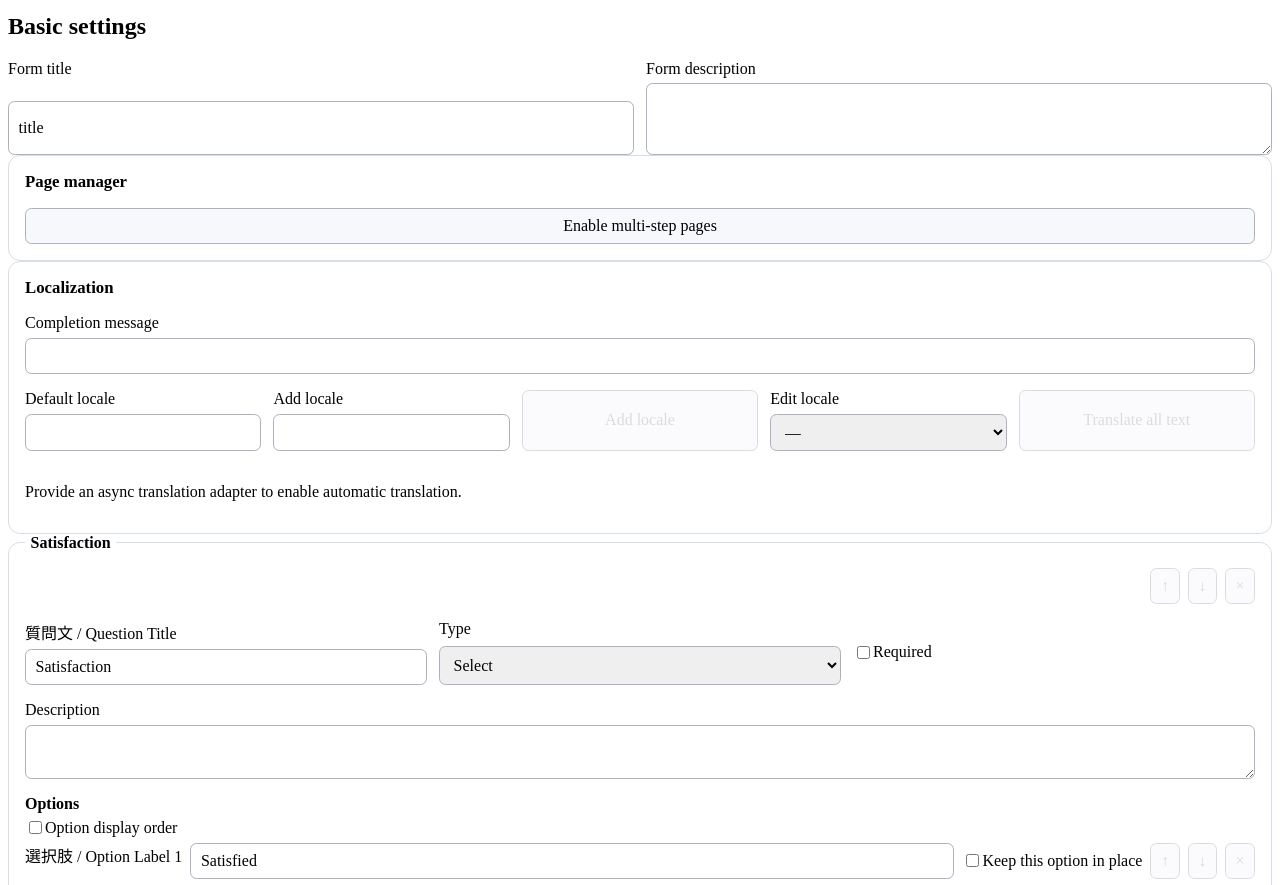
Test: React form engine › hides generated IDs and keeps them stable while natural-language labels change
The image size is (1280, 885).
Expected: the text "q_aaaaaaaa" is not shown
Replace the text in the field labelled "質問文 / Question Title" with "Overall satisfaction" at (226, 667), box [25,649,427,685]
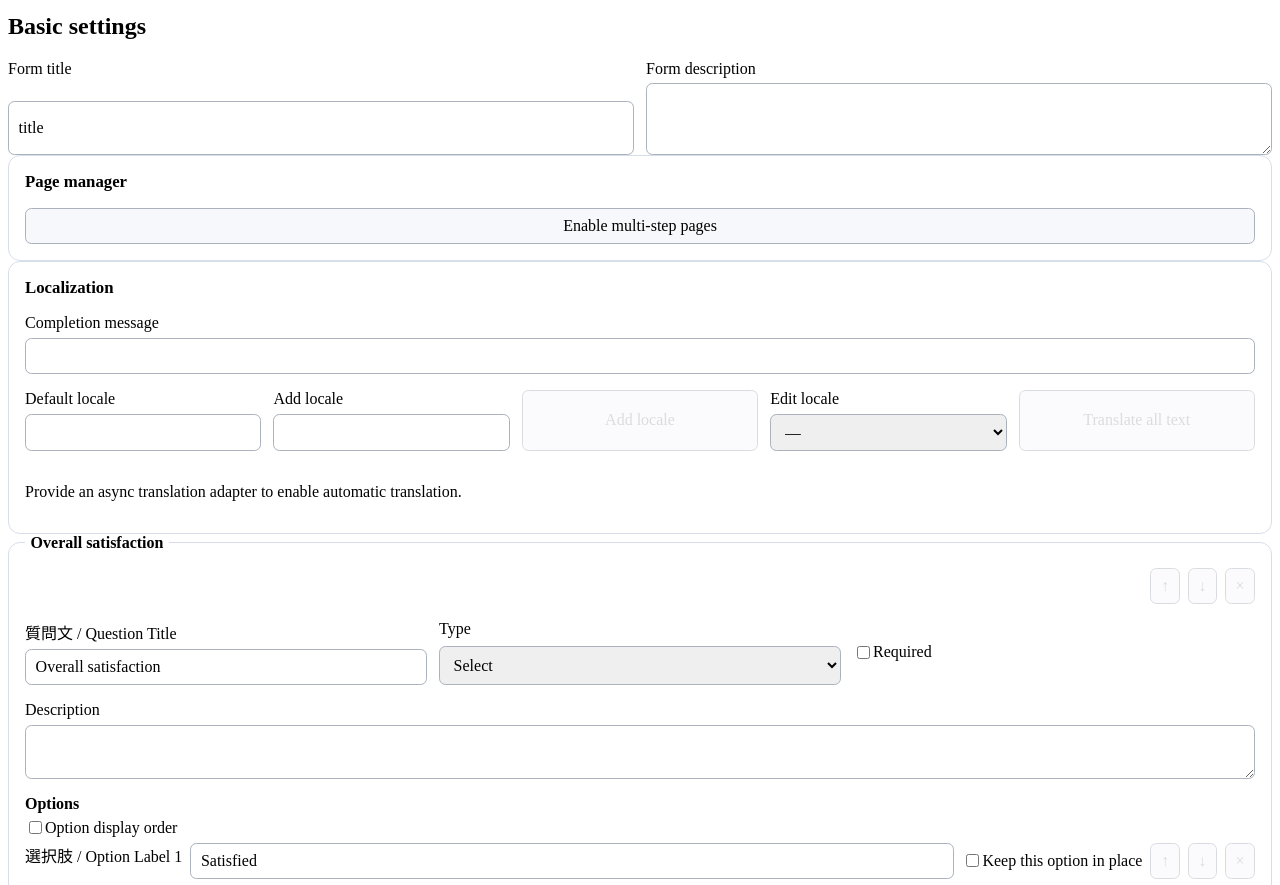
Replace the text in the field labelled "選択肢 / Option Label 1" with "Very satisfied" at (572, 861), box [190,843,954,879]
(page scrolled)
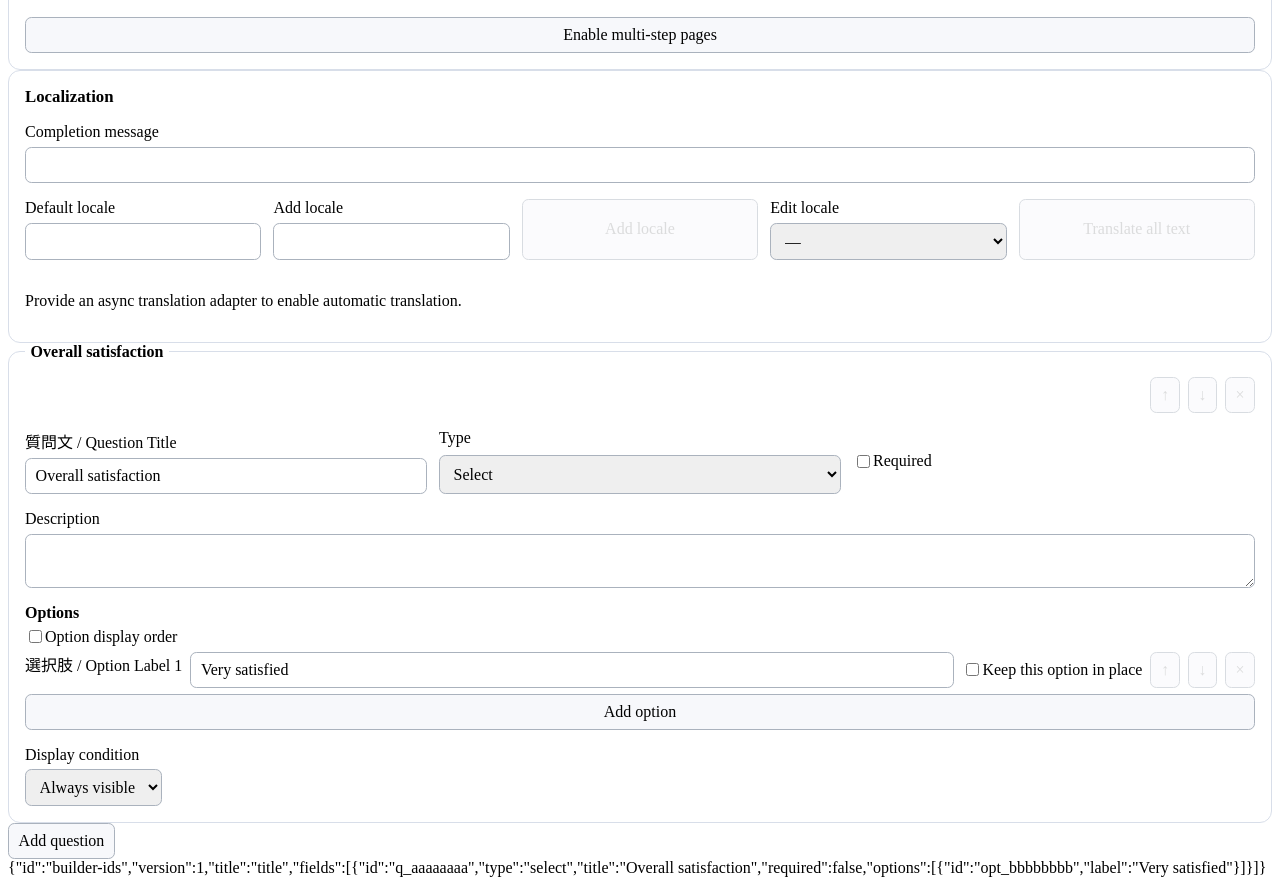
Expected: the text with test id "builder-schema" shows "\"id\":\"q_aaaaaaaa\"", [8,859,1266,876]
Now the text with test id "builder-schema" shows "\"title\":\"Overall satisfaction\"", box [8,859,1266,876]
Now the text with test id "builder-schema" shows "\"label\":\"Very satisfied\"", box [8,859,1266,876]
